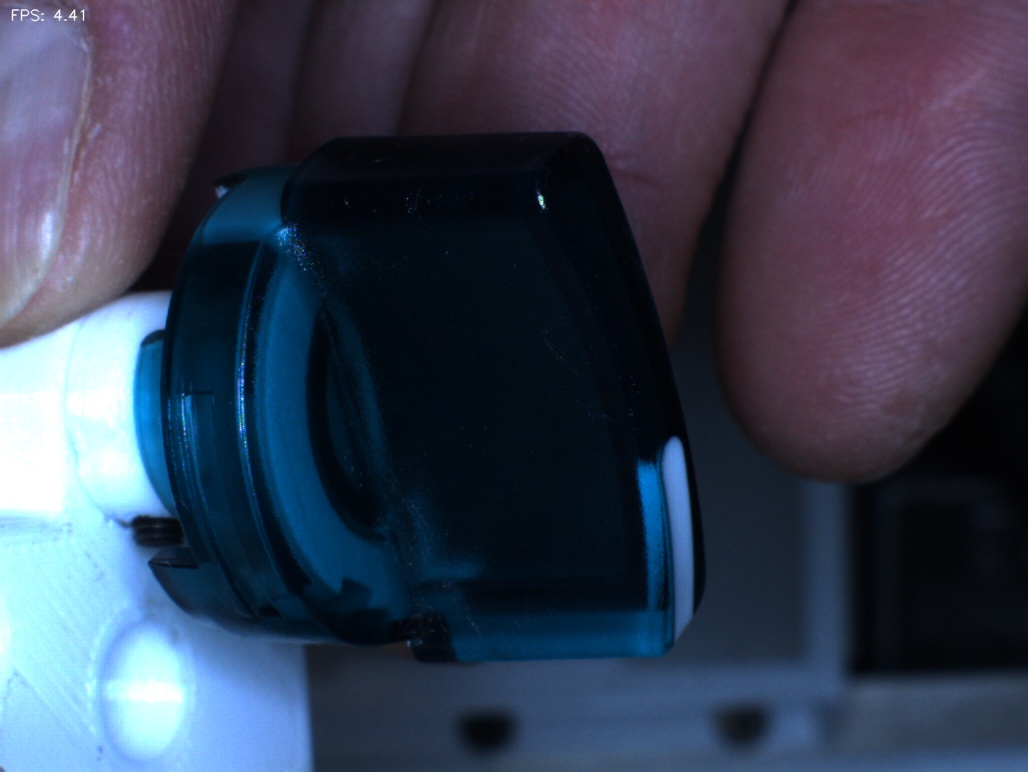Givrage: (525, 316, 646, 455), (386, 489, 463, 613)
